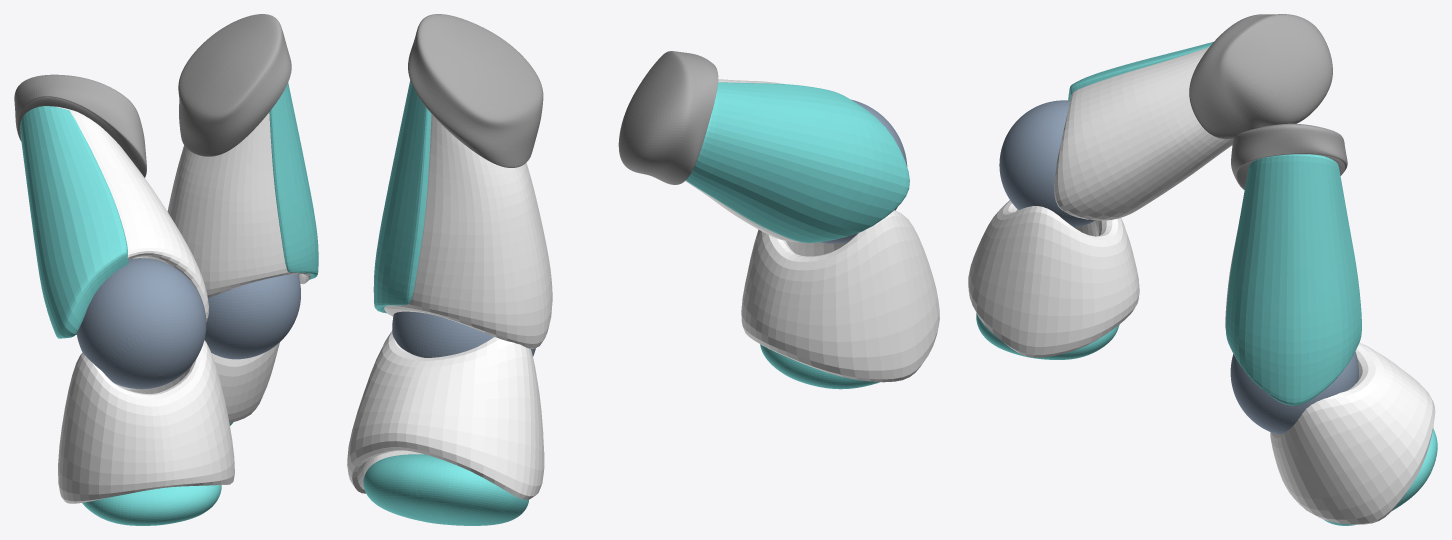
The model's file is leg.glb.
3 views of the same model, side by side, from view 1: azimuth 30°, elevation 25°; view 2: azimuth 150°, elevation 25°; view 3: azimuth 270°, elevation 25° (orthographic). The views are drawn at different scales.
Parts seen in each view (by area): view 1: LEG; view 2: LEG; view 3: LEG.
Boxes of the visible parts, x1=… form: LEG: x1=14, y1=14, x2=318, y2=525; LEG: x1=347, y1=14, x2=939, y2=525; LEG: x1=968, y1=14, x2=1437, y2=525.
Bounding box in the file's own units: 2.6 × 2.91 × 2.96.
